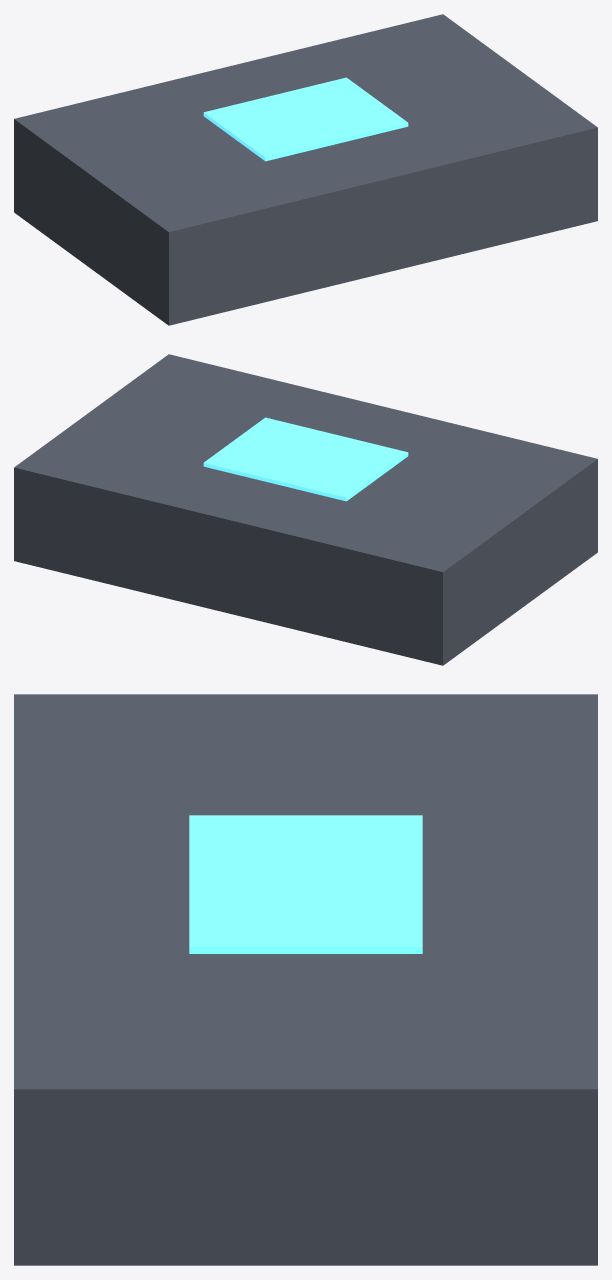
The picture shows the model from 3 angles, top to bottom: view 1: azimuth 30°, elevation 25°; view 2: azimuth 150°, elevation 25°; view 3: azimuth 270°, elevation 25°; orthographic projection. The views are drawn at different scales.
Parts seen in each view (by area): view 1: DeviceHardware; view 2: DeviceHardware; view 3: DeviceHardware.
Part boxes in pixels (left/top/right/bottom): DeviceHardware: left=14, top=14, right=597, bottom=325; DeviceHardware: left=14, top=354, right=597, bottom=665; DeviceHardware: left=14, top=694, right=597, bottom=1265.
Bounding box in the file's own units: 0.24 × 0.053 × 0.15.
